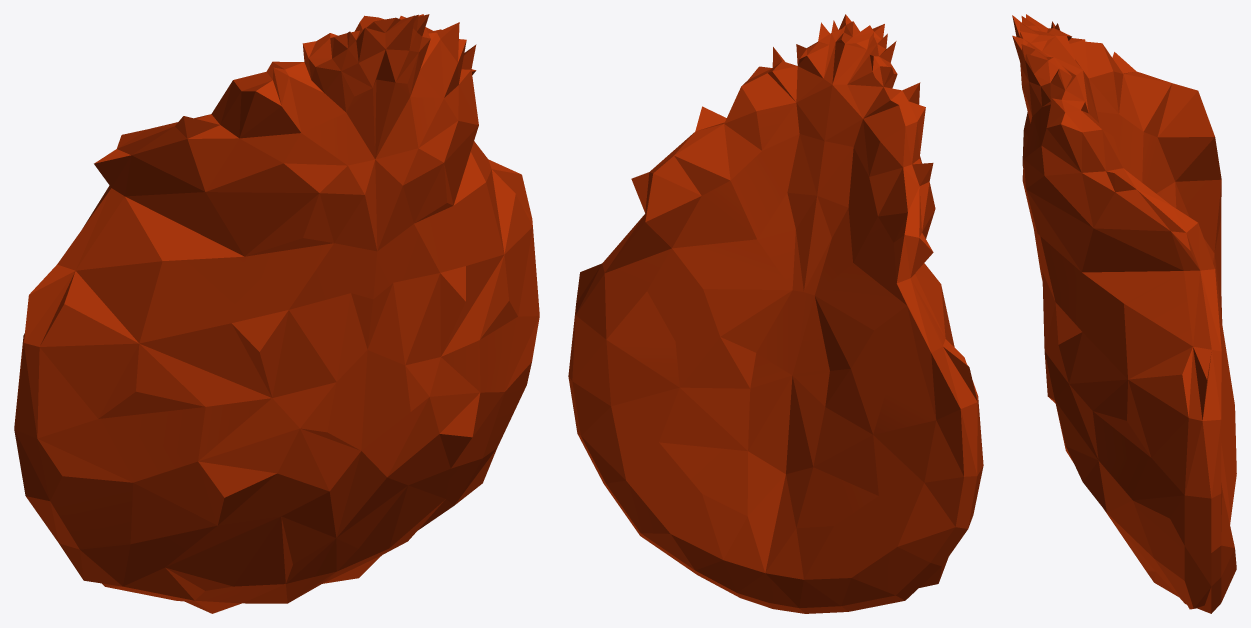
The model's file is SpidercrabShell.glb.
The picture shows the model from 3 angles, left to right: view 1: azimuth 30°, elevation 25°; view 2: azimuth 150°, elevation 25°; view 3: azimuth 270°, elevation 25°; orthographic projection. The views are drawn at different scales.
Visible parts, largest first — view 1: SpidercrabShell; view 2: SpidercrabShell; view 3: SpidercrabShell.
Boxes of the visible parts, x1=… form: SpidercrabShell: x1=14, y1=14, x2=539, y2=613; SpidercrabShell: x1=568, y1=14, x2=983, y2=613; SpidercrabShell: x1=1012, y1=14, x2=1236, y2=613.
Size of the model in its own units: 0.6503 by 0.7943 by 0.2873.
Materials: 1 (1 with a texture image).
